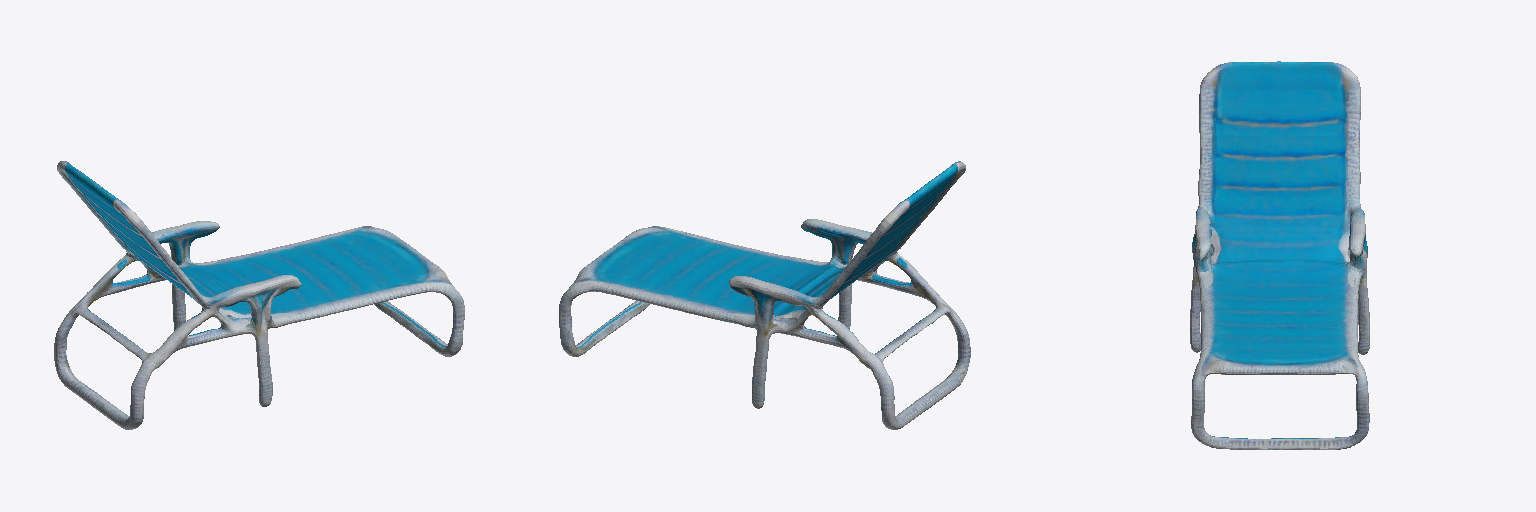
The picture shows the model from 3 angles: view 1: azimuth 30°, elevation 25°; view 2: azimuth 150°, elevation 25°; view 3: azimuth 270°, elevation 25°; orthographic projection.
Parts seen in each view (by area): view 1: mesh; view 2: mesh; view 3: mesh.
Boxes of the visible parts, x1=… form: mesh: x1=54, y1=161, x2=464, y2=429; mesh: x1=559, y1=161, x2=970, y2=429; mesh: x1=1190, y1=61, x2=1369, y2=449.
Bounding box in the file's own units: 0.9995 × 0.6565 × 0.4675.
1 materials, 1 textured.